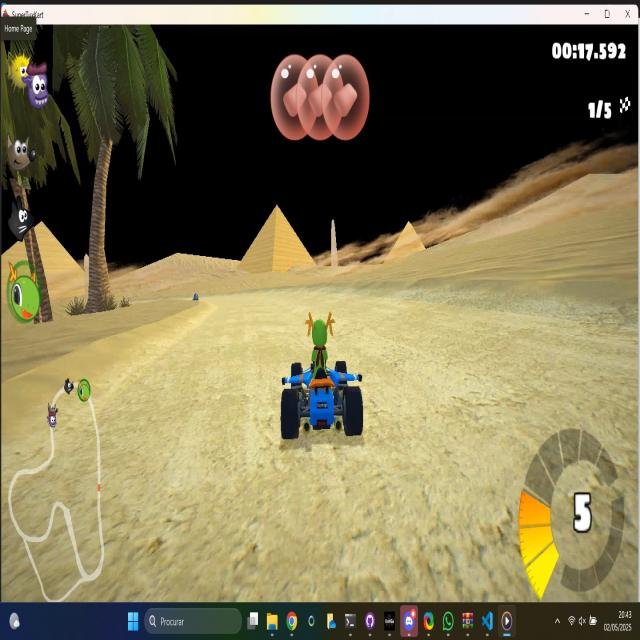enemy_kart: (192, 290, 200, 306)
off_track: (280, 187, 640, 271), (43, 292, 187, 340)
player_kart: (277, 314, 366, 450)
track: (212, 289, 348, 313)
